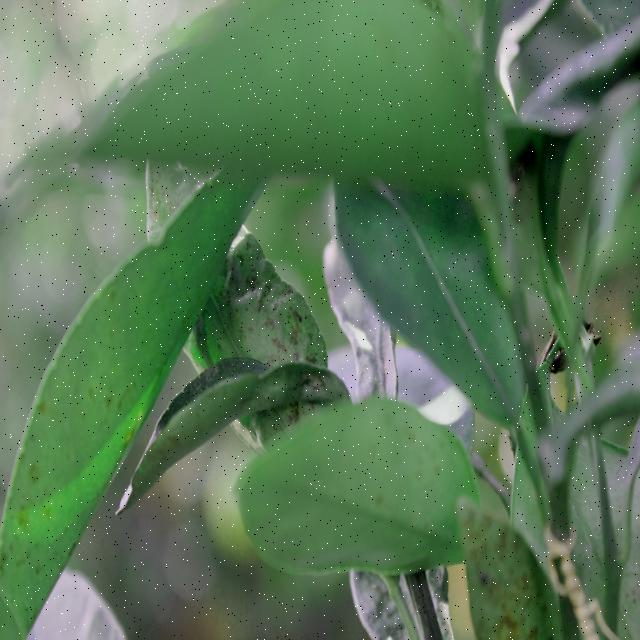melanose: (0, 253, 178, 626), (212, 230, 330, 425), (458, 488, 590, 640)
